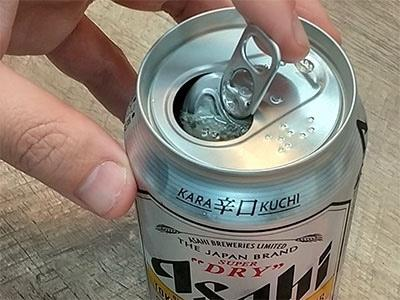metal: (127, 7, 367, 300)
